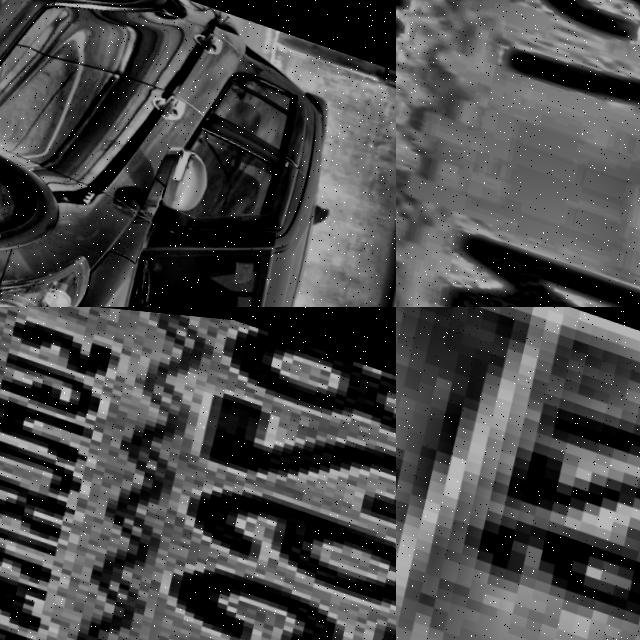license-plate: (0, 307, 396, 640), (396, 307, 640, 640), (396, 0, 640, 307)
